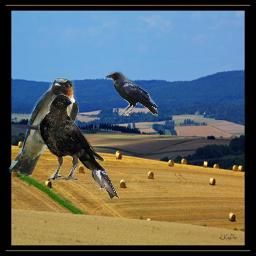Crow: (38, 94, 106, 181), (105, 71, 158, 116)
Swallow: (8, 76, 79, 177), (87, 162, 120, 199)
